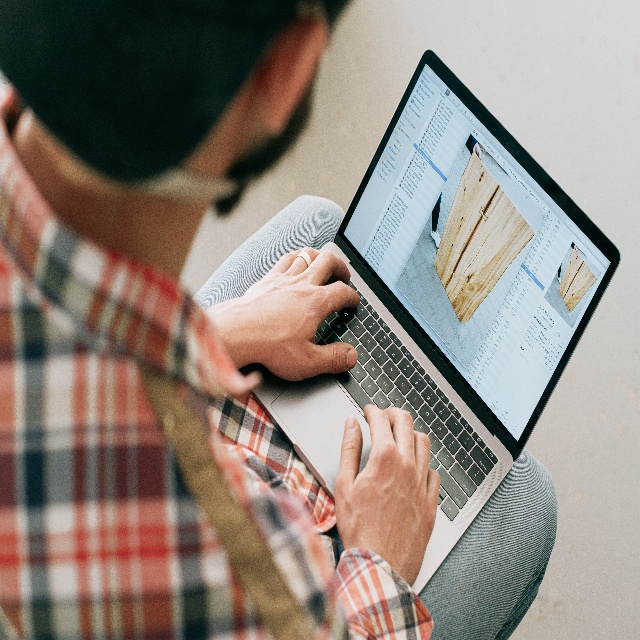Sin_guantes: (333, 400, 441, 594), (239, 245, 360, 384)
